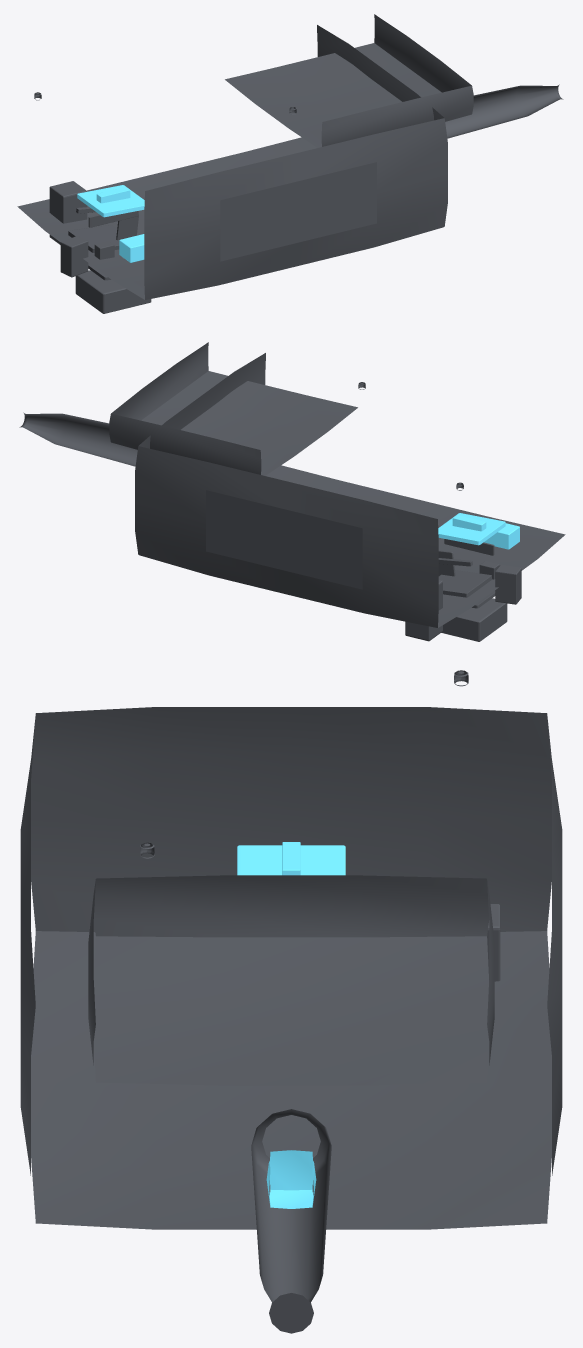
The model's file is place_mining_drone.glb.
3 renders of one model, top to bottom at view 1: azimuth 30°, elevation 25°; view 2: azimuth 150°, elevation 25°; view 3: azimuth 270°, elevation 25°, orthographic. The views are drawn at different scales.
Visible parts, largest first — view 1: Drone_Body, place_mining_drone_Material_Mechanical_Merged, Drone_Drill, DET_ore_collector, DET_drill_bit, DET_edge_chamfer_band, DET_thruster_pod, DET_ore_dust_coat, DET_beam_emitter, DET_micro_scratch_plate, DET_panel_line_emphasis, DET_sensor_array; view 2: Drone_Body, place_mining_drone_Material_Mechanical_Merged, Drone_Drill, DET_ore_collector, DET_edge_chamfer_band, DET_ore_dust_coat, DET_thruster_pod, DET_drill_bit, DET_beam_emitter, DET_panel_line_emphasis, DET_sensor_array; view 3: Drone_Body, place_mining_drone_Material_Mechanical_Merged, Drone_Drill, DET_edge_chamfer_band, Drone_Beam_Head.
Part boxes in pixels (bbox=[...]): Drone_Body: bbox=[17, 25, 447, 299]; place_mining_drone_Material_Mechanical_Merged: bbox=[34, 14, 473, 147]; Drone_Drill: bbox=[445, 84, 563, 138]; DET_ore_collector: bbox=[75, 270, 151, 313]; DET_drill_bit: bbox=[49, 181, 87, 244]; DET_edge_chamfer_band: bbox=[77, 185, 144, 217]; DET_thruster_pod: bbox=[60, 236, 88, 277]; DET_ore_dust_coat: bbox=[68, 225, 119, 252]; DET_beam_emitter: bbox=[119, 234, 144, 262]; DET_micro_scratch_plate: bbox=[116, 214, 138, 240]; DET_panel_line_emphasis: bbox=[88, 211, 138, 227]; DET_sensor_array: bbox=[96, 187, 130, 203]; Drone_Body: bbox=[135, 353, 565, 627]; place_mining_drone_Material_Mechanical_Merged: bbox=[109, 342, 463, 490]; Drone_Drill: bbox=[19, 412, 137, 466]; DET_ore_collector: bbox=[441, 598, 507, 641]; DET_edge_chamfer_band: bbox=[438, 513, 505, 545]; DET_ore_dust_coat: bbox=[438, 570, 492, 597]; DET_thruster_pod: bbox=[495, 565, 521, 604]; DET_drill_bit: bbox=[405, 580, 442, 641]; DET_beam_emitter: bbox=[484, 523, 519, 549]; DET_panel_line_emphasis: bbox=[444, 539, 494, 555]; DET_sensor_array: bbox=[452, 515, 486, 531]; Drone_Body: bbox=[20, 707, 562, 1229]; place_mining_drone_Material_Mechanical_Merged: bbox=[88, 670, 494, 1085]; Drone_Drill: bbox=[251, 1109, 331, 1333]; DET_edge_chamfer_band: bbox=[237, 845, 345, 875]; Drone_Beam_Head: bbox=[266, 1150, 316, 1208].
Bounding box in the file's own units: 5.11 × 1.78 × 2.4.
